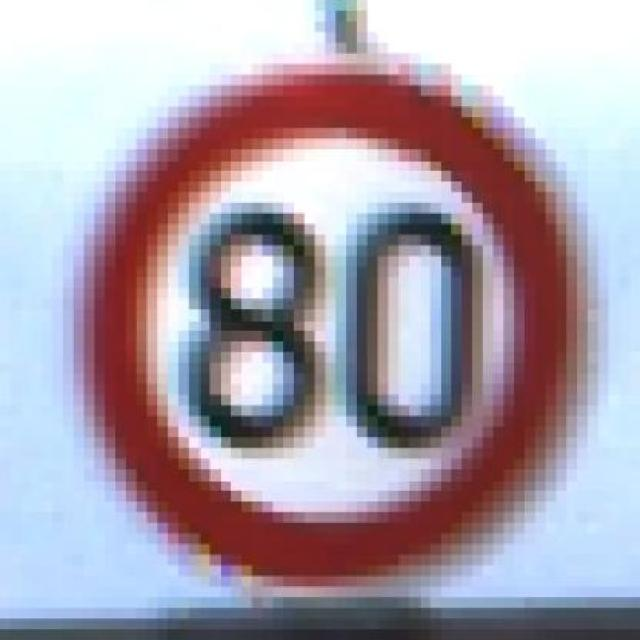forb_speed_over_80: (92, 66, 576, 580)
